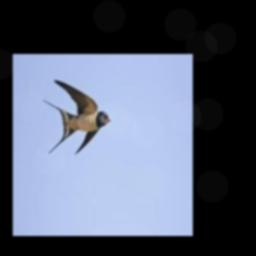Swallow: (42, 79, 111, 154)
